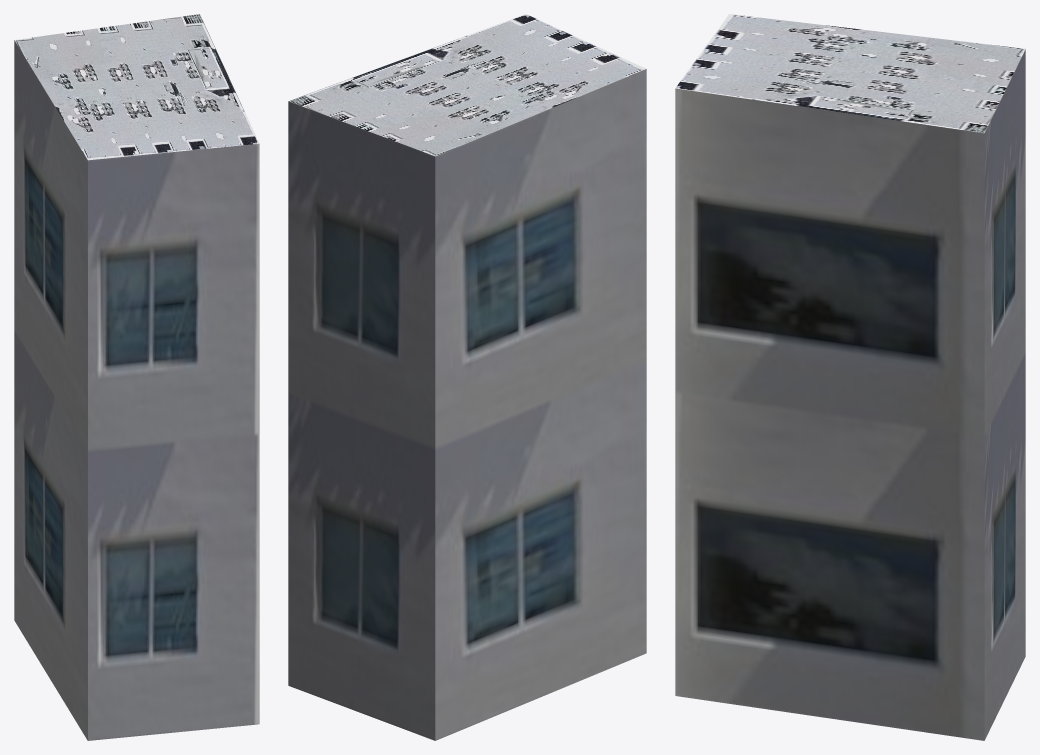
The model's file is ResTex__907.fbx.
The picture shows the model from 3 angles, left to right: view 1: azimuth 30°, elevation 25°; view 2: azimuth 150°, elevation 25°; view 3: azimuth 270°, elevation 25°; orthographic projection. The views are drawn at different scales.
Parts seen in each view (by area): view 1: CityEngineMaterial_10_m, CityEngineMaterial_4_m; view 2: CityEngineMaterial_10_m, CityEngineMaterial_4_m; view 3: CityEngineMaterial_10_m, CityEngineMaterial_4_m.
Part boxes in pixels (x1,y1,x2,y2): CityEngineMaterial_10_m: (14, 40, 259, 740); CityEngineMaterial_4_m: (14, 14, 259, 160); CityEngineMaterial_10_m: (288, 69, 646, 740); CityEngineMaterial_4_m: (289, 14, 646, 156); CityEngineMaterial_10_m: (675, 49, 1025, 740); CityEngineMaterial_4_m: (675, 14, 1025, 133).
Bounding box in the file's own units: 2.53 × 6 × 3.14.
Materials: 2 (2 with a texture image).
